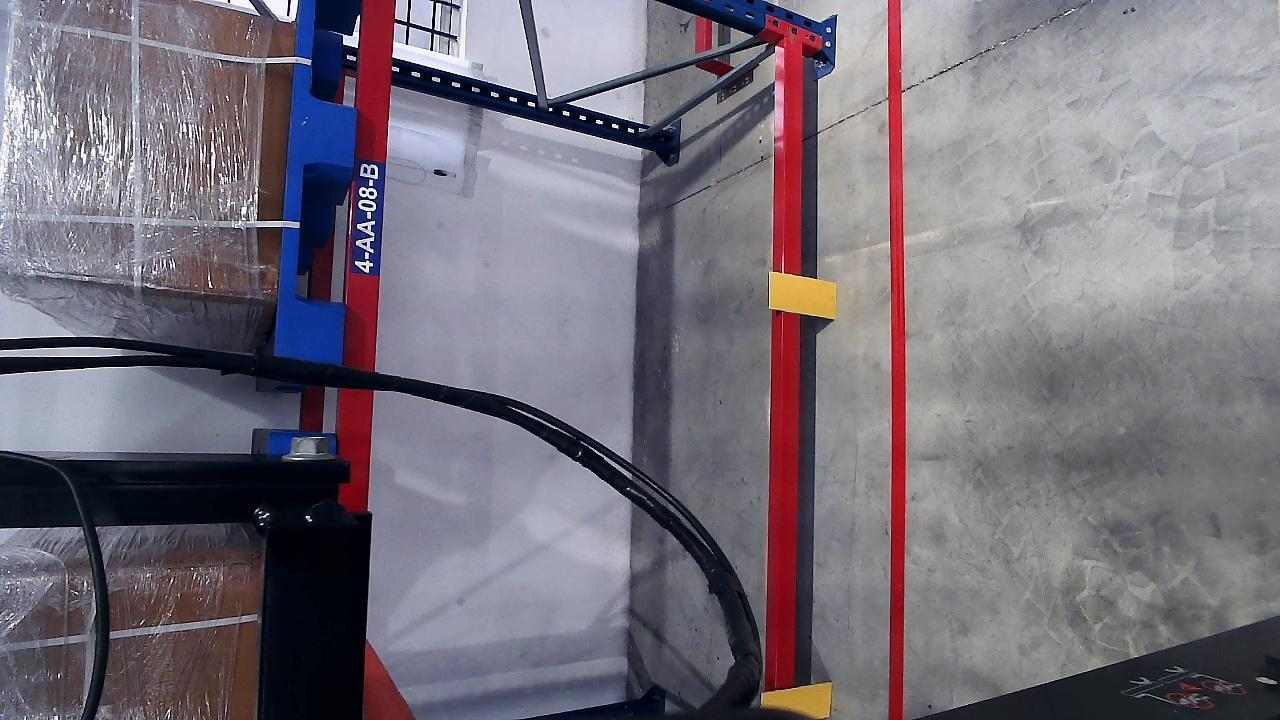red_line: (884, 0, 909, 720)
